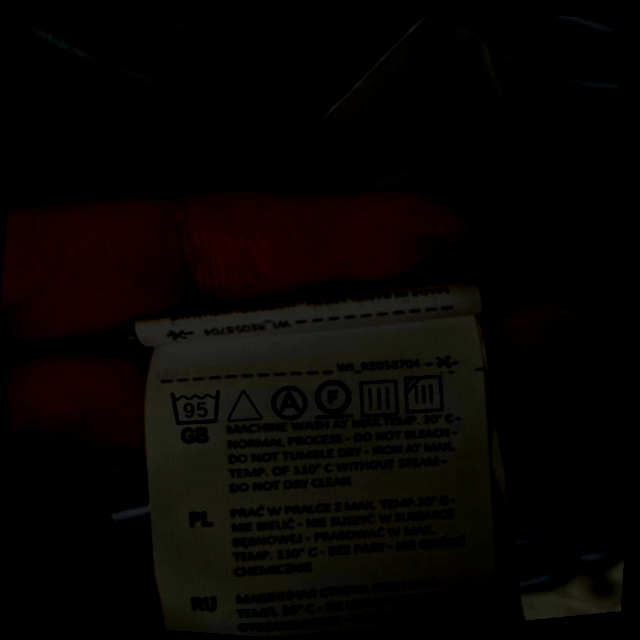95C: (164, 380, 229, 432)
bleach: (222, 380, 266, 429)
drip_dry: (353, 371, 406, 423)
drip_dry_in_shade: (399, 367, 454, 421)
dry_clean: (265, 380, 311, 425)
dry_clean_petrol_only: (309, 370, 358, 425)
